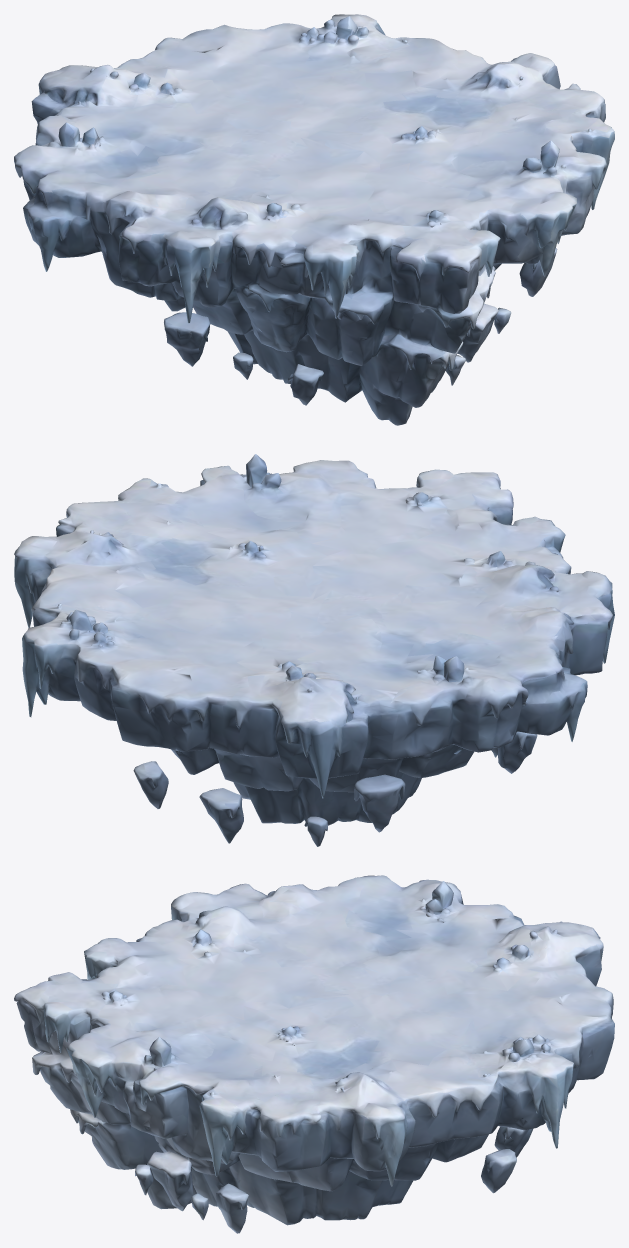
File: R2_Island_Meadow.fbx
The picture shows the model from 3 angles, top to bottom: view 1: azimuth 30°, elevation 25°; view 2: azimuth 150°, elevation 25°; view 3: azimuth 270°, elevation 25°; orthographic projection. The views are drawn at different scales.
Parts seen in each view (by area): view 1: R2_Island_Meadow; view 2: R2_Island_Meadow; view 3: R2_Island_Meadow.
Part boxes in pixels (x1,y1,x2,y2): R2_Island_Meadow: (14,14,614,425); R2_Island_Meadow: (14,454,614,846); R2_Island_Meadow: (14,875,614,1233).
Bounding box in the file's own units: 900 × 400 × 900.
1 material, 1 textured.
